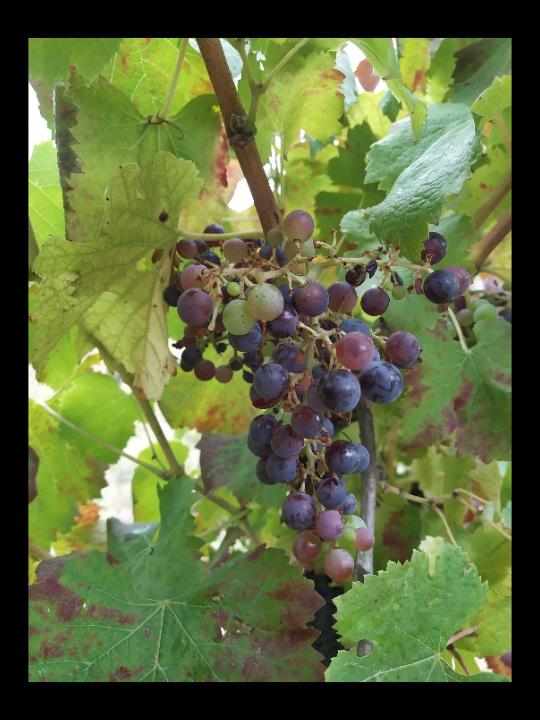grape: (160, 209, 472, 585)
